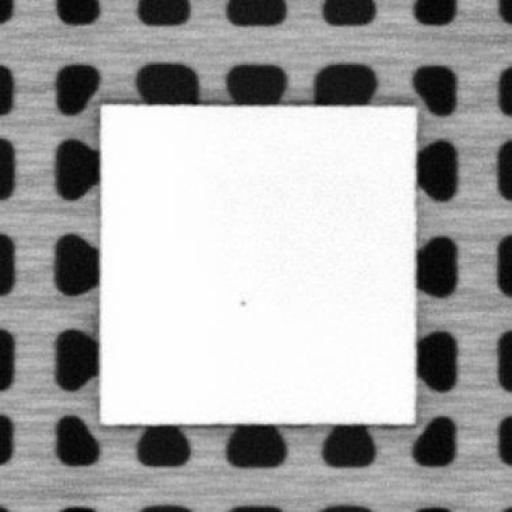DIE_INK: (236, 294, 249, 306)
